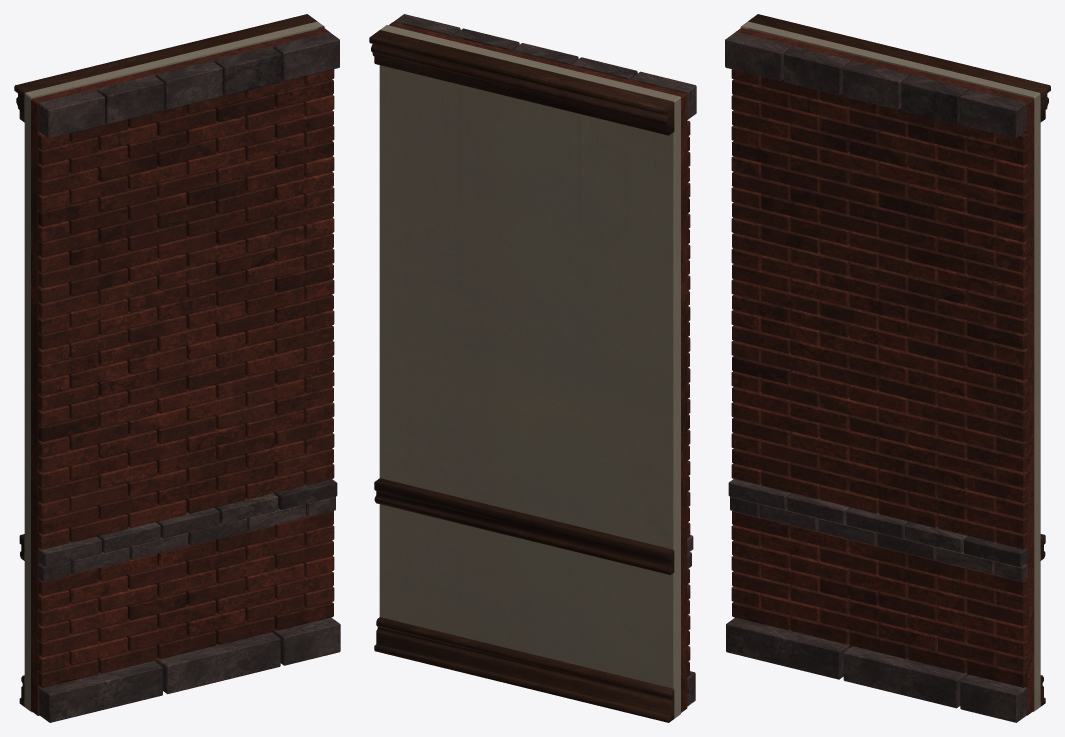
The model's file is SK1 WALL1.fbx.
3 renders of one model, left to right at view 1: azimuth 30°, elevation 25°; view 2: azimuth 150°, elevation 25°; view 3: azimuth 330°, elevation 25°, orthographic.
Parts seen in each view (by area): view 1: SK1 WALL1; view 2: SK1 WALL1; view 3: SK1 WALL1.
Boxes of the visible parts, left/top/right/bottom form: SK1 WALL1: left=14, top=14, right=340, bottom=722; SK1 WALL1: left=369, top=14, right=696, bottom=722; SK1 WALL1: left=725, top=14, right=1050, bottom=722.
Size of the model in its own units: 200 by 400 by 39.87.
